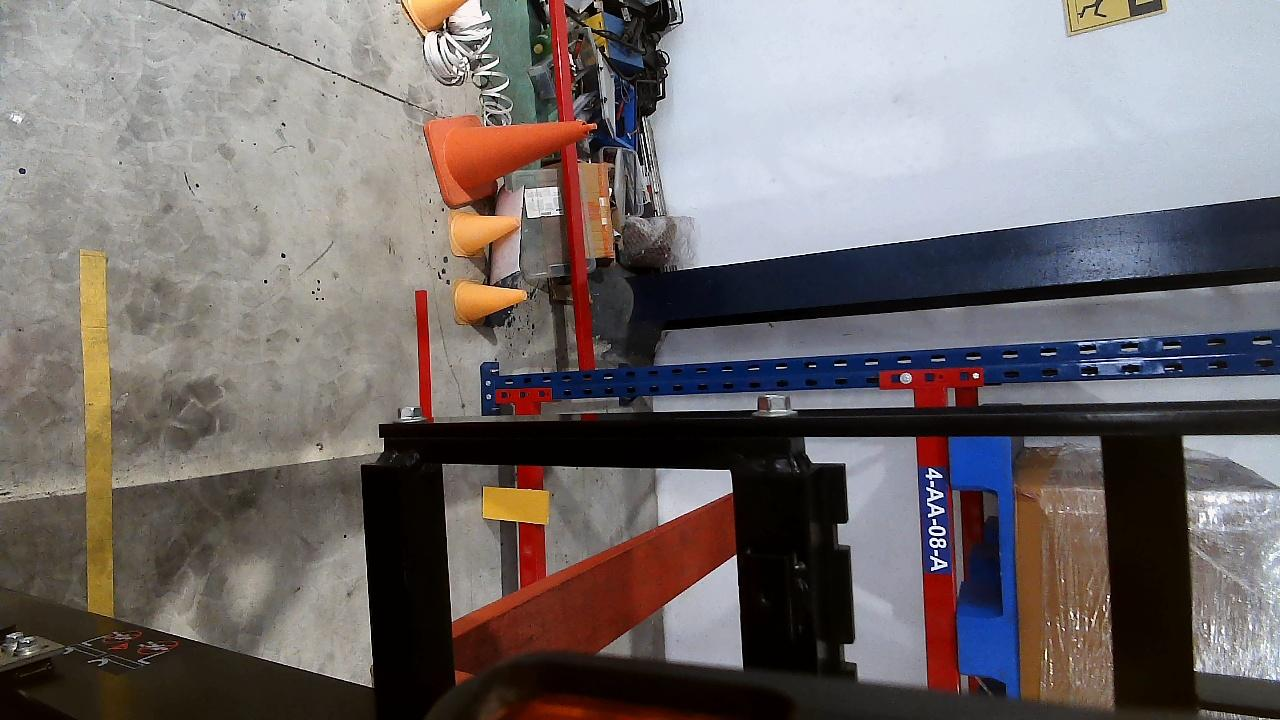h_rack: (913, 387, 963, 692)
orange_strip: (482, 487, 550, 525)
red_line: (413, 290, 435, 420)
small_pallet: (949, 439, 1024, 696)
yellow_line: (80, 250, 113, 618)
